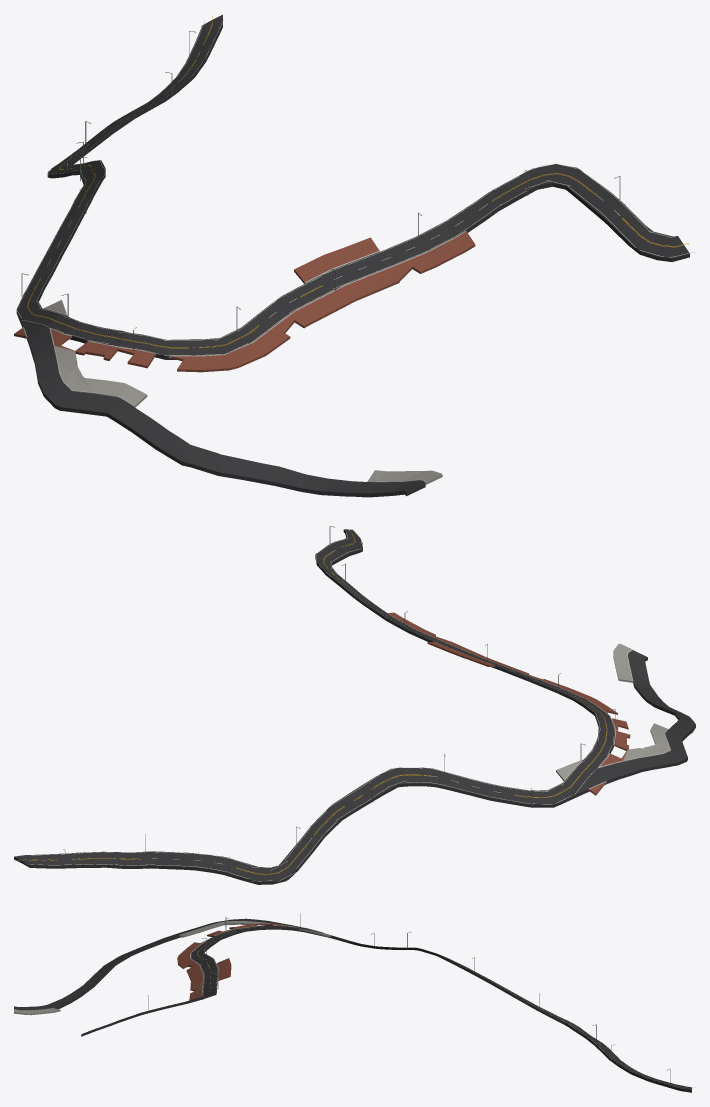
Rendered from 17-109398-59472.3d0beb77.glb.
3 renders of one model, top to bottom at view 1: azimuth 30°, elevation 25°; view 2: azimuth 150°, elevation 25°; view 3: azimuth 270°, elevation 25°, orthographic. The views are drawn at different scales.
Size of the model in its own units: 180 by 58.58 by 293.
